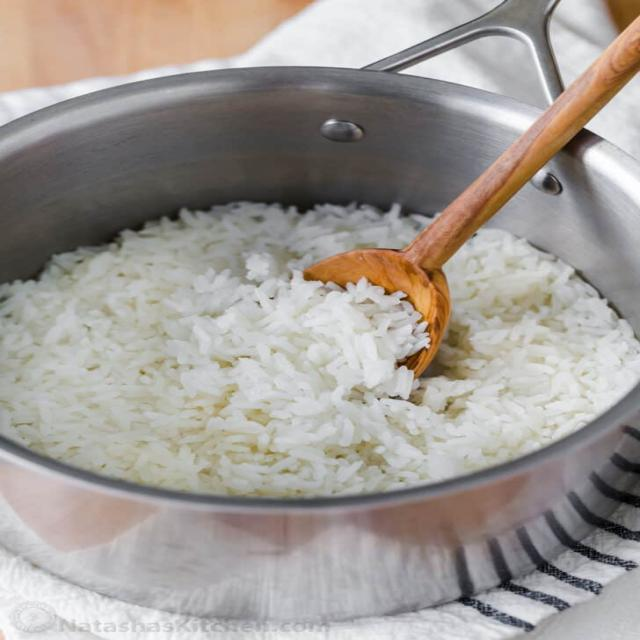Wet Waste: (0, 180, 640, 512)
